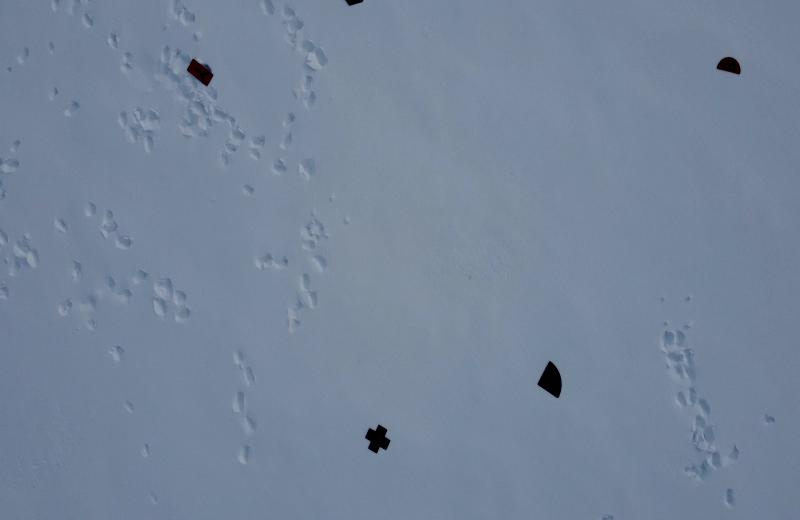Cross: (364, 420, 392, 455)
Quarter Circle: (535, 356, 566, 401)
Rectangle: (183, 56, 215, 90)
Semi Circle: (713, 52, 744, 78)
